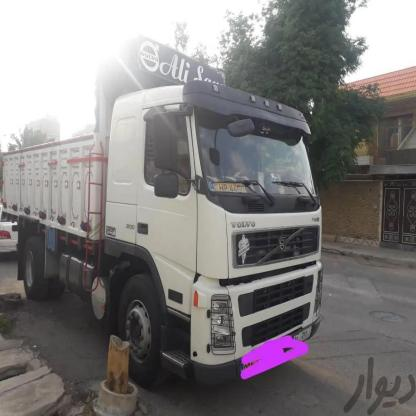Car: (0, 212, 21, 258)
Truck: (0, 30, 324, 415)
